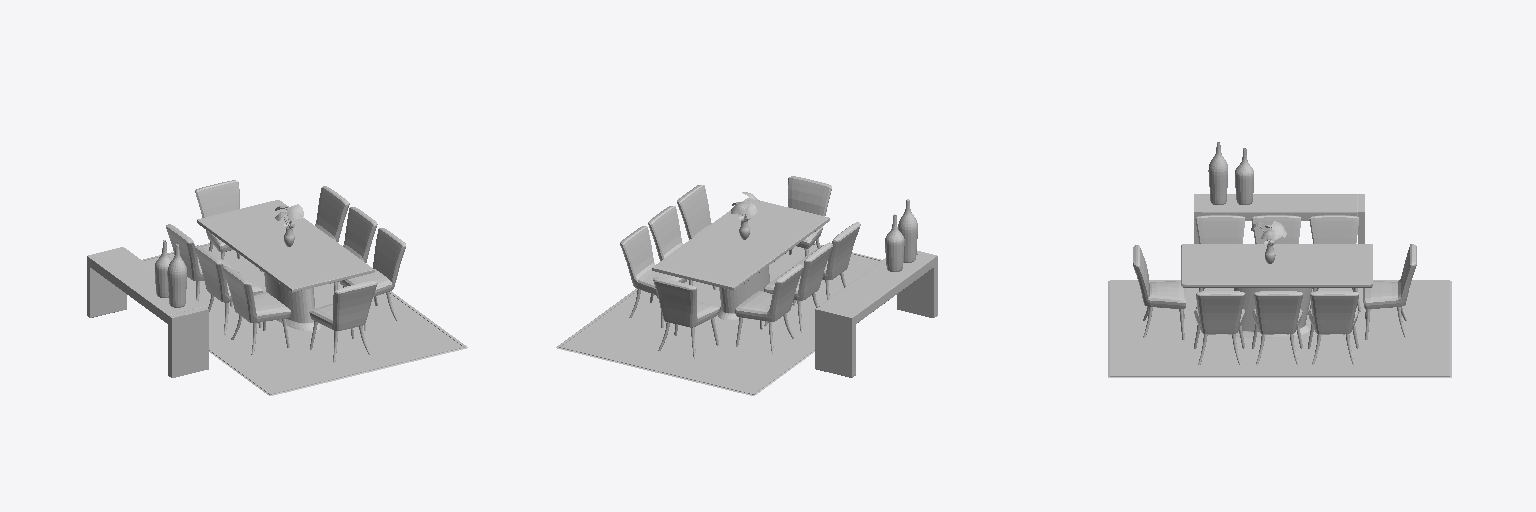
File: mesa.obj
3 renders of one model, left to right at view 1: azimuth 30°, elevation 25°; view 2: azimuth 150°, elevation 25°; view 3: azimuth 270°, elevation 25°, orthographic.
Parts seen in each view (by area): view 1: Plane.001, mesajantar_Plane.007, Desc_Cube.054, cadeirajantar_Circle.017, cadeirajantar.006_Circle.010, cadeirajantar.001_Circle.001, cadeirajantar.007_Circle.012, cadeirajantar.005_Circle.009, cadeirajantar.002_Circle.002, cadeirajantar.003_Circle.003, cadeirajantar.004_Circle.008, JarroMaior_Circle.046 (+1 smaller); view 2: Plane.001, mesajantar_Plane.007, Desc_Cube.054, cadeirajantar.007_Circle.012, cadeirajantar.004_Circle.008, cadeirajantar.003_Circle.003, cadeirajantar_Circle.017, cadeirajantar.005_Circle.009, cadeirajantar.006_Circle.010, cadeirajantar.002_Circle.002, cadeirajantar.001_Circle.001, JarroMenos_Circle.047 (+1 smaller); view 3: Plane.001, mesajantar_Plane.007, Desc_Cube.054, cadeirajantar.001_Circle.001, cadeirajantar.003_Circle.003, cadeirajantar.002_Circle.002, cadeirajantar_Circle.017, cadeirajantar.007_Circle.012, cadeirajantar.004_Circle.008, cadeirajantar.006_Circle.010, cadeirajantar.005_Circle.009, JarroMaior_Circle.046 (+1 smaller).
Part boxes in pixels (x1,y1,x2,y2): Plane.001: (142, 243, 467, 395); mesajantar_Plane.007: (197, 200, 374, 330); Desc_Cube.054: (87, 247, 208, 377); cadeirajantar_Circle.017: (309, 281, 377, 362); cadeirajantar.006_Circle.010: (223, 266, 290, 354); cadeirajantar.001_Circle.001: (339, 228, 405, 330); cadeirajantar.007_Circle.012: (195, 180, 262, 271); cadeirajantar.005_Circle.009: (195, 245, 262, 334); cadeirajantar.002_Circle.002: (334, 207, 377, 290); cadeirajantar.003_Circle.003: (315, 186, 349, 241); cadeirajantar.004_Circle.008: (166, 224, 233, 306); JarroMaior_Circle.046: (167, 244, 186, 307); Plane.001: (556, 243, 881, 395); mesajantar_Plane.007: (652, 198, 829, 319); Desc_Cube.054: (815, 251, 937, 377); cadeirajantar.007_Circle.012: (653, 277, 719, 358); cadeirajantar.004_Circle.008: (735, 264, 803, 353); cadeirajantar.003_Circle.003: (620, 226, 686, 327); cadeirajantar_Circle.017: (788, 176, 831, 256); cadeirajantar.005_Circle.009: (764, 242, 832, 332); cadeirajantar.006_Circle.010: (792, 222, 860, 305); cadeirajantar.002_Circle.002: (648, 206, 715, 297); cadeirajantar.001_Circle.001: (677, 185, 711, 239); JarroMenos_Circle.047: (885, 214, 904, 271); Plane.001: (1108, 280, 1451, 377); mesajantar_Plane.007: (1181, 244, 1372, 337); Desc_Cube.054: (1194, 194, 1364, 243); cadeirajantar.001_Circle.001: (1194, 291, 1245, 364); cadeirajantar.003_Circle.003: (1308, 291, 1358, 364); cadeirajantar.002_Circle.002: (1252, 291, 1302, 364); cadeirajantar_Circle.017: (1133, 245, 1185, 339); cadeirajantar.007_Circle.012: (1363, 244, 1416, 339); cadeirajantar.004_Circle.008: (1309, 215, 1360, 311); cadeirajantar.006_Circle.010: (1195, 215, 1244, 308); cadeirajantar.005_Circle.009: (1251, 215, 1300, 243); JarroMaior_Circle.046: (1208, 142, 1227, 204).
Bounding box in the file's own units: 2.84 × 1.29 × 3.34.